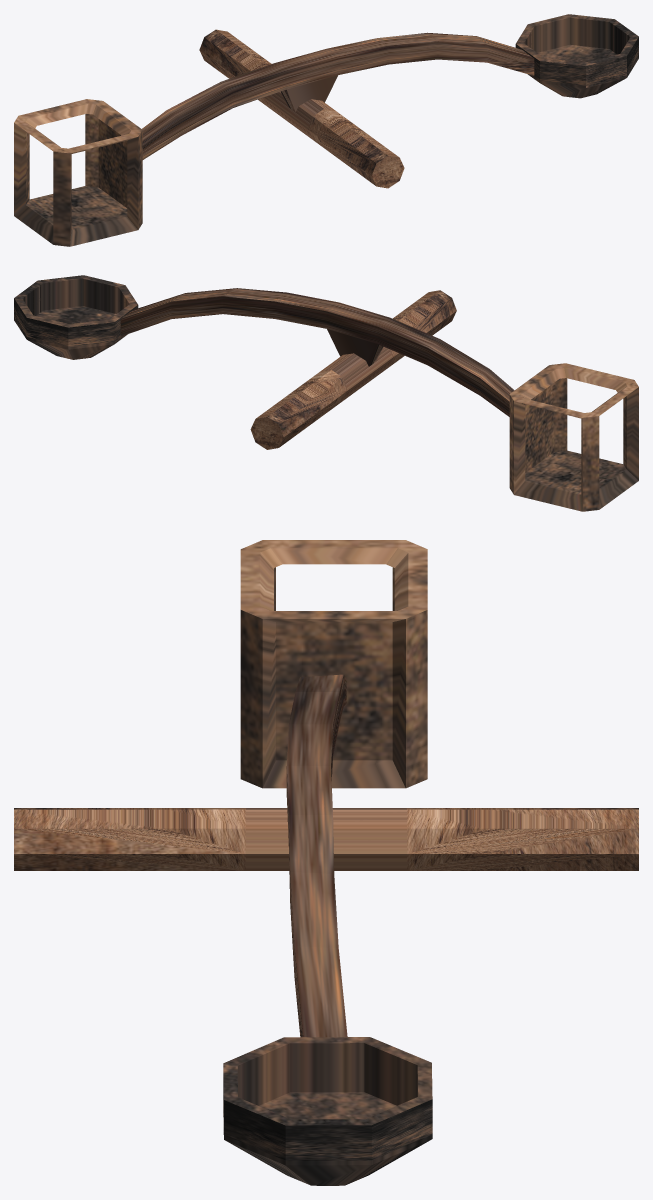
The model's file is catapulta_lanzador.obj.
3 views of the same model, one above another, from view 1: azimuth 30°, elevation 25°; view 2: azimuth 150°, elevation 25°; view 3: azimuth 270°, elevation 25° (orthographic). The views are drawn at different scales.
Visible parts, largest first — view 1: lanza_Material.002; view 2: lanza_Material.002; view 3: lanza_Material.002.
Part boxes in pixels (<box>): lanza_Material.002: <box>14,14,638,246</box>; lanza_Material.002: <box>14,275,638,511</box>; lanza_Material.002: <box>14,540,638,1185</box>.
Size of the model in its own units: 8.61 by 1.55 by 4.34.
